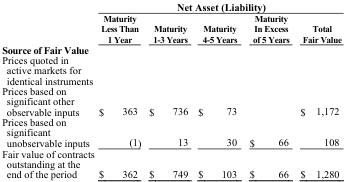table: (1, 0, 340, 179)
table column: (1, 0, 95, 179), (242, 0, 294, 179), (192, 0, 242, 179), (95, 0, 144, 179), (144, 0, 192, 179), (294, 0, 340, 179)
table column header: (1, 0, 340, 43)
table projected row header: (1, 54, 340, 85), (1, 43, 340, 54)
table row: (1, 147, 340, 179), (1, 12, 340, 43), (1, 54, 340, 85), (1, 85, 340, 116), (1, 116, 340, 147), (1, 0, 340, 12), (1, 43, 340, 54)
table spanning cell: (95, 0, 340, 12)
